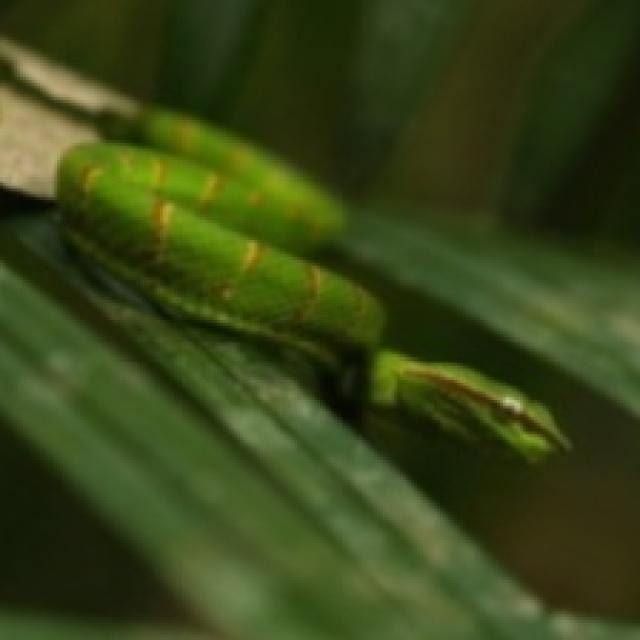north ph temple pitviper: (0, 37, 566, 463)
